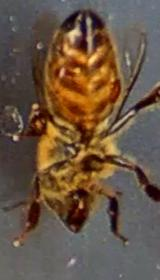varroa_mite: (100, 70, 126, 103), (48, 62, 76, 81)
